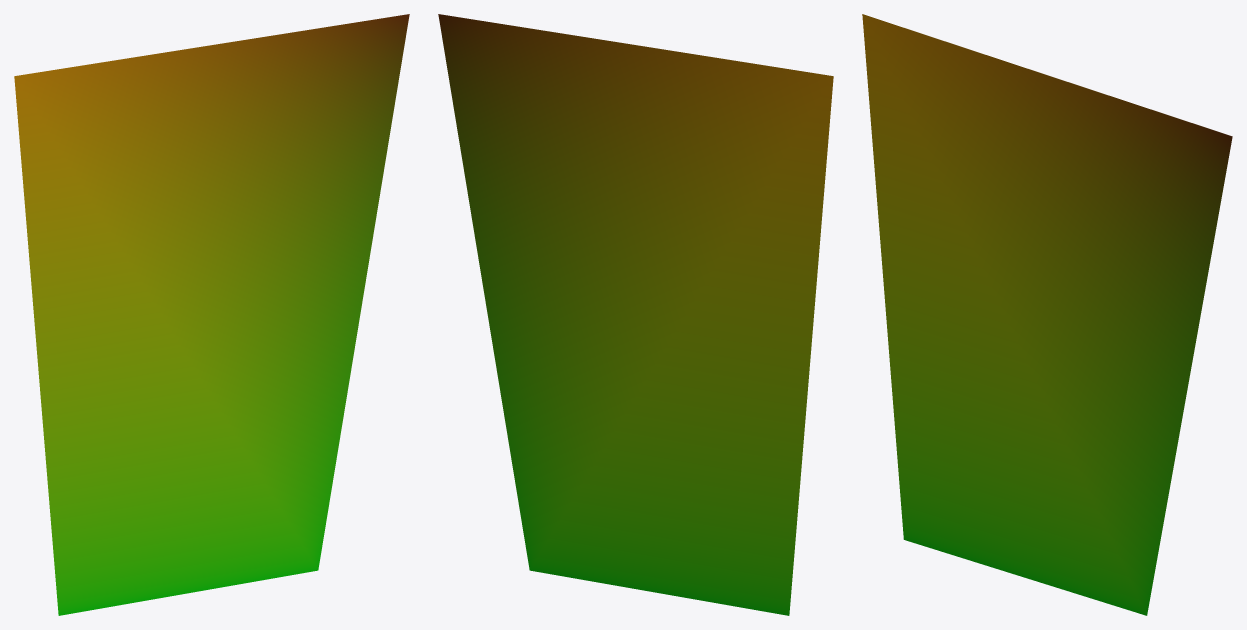
The model's file is Seaweed_LOD3_Var8_sdpjN.fbx.
The picture shows the model from 3 angles, left to right: view 1: azimuth 30°, elevation 25°; view 2: azimuth 150°, elevation 25°; view 3: azimuth 330°, elevation 25°; orthographic projection. The views are drawn at different scales.
Parts seen in each view (by area): view 1: _8add_Var8_LOD3; view 2: _8add_Var8_LOD3; view 3: _8add_Var8_LOD3.
Boxes of the visible parts, x1,y1,x2,y2 form: _8add_Var8_LOD3: (14,14,409,615); _8add_Var8_LOD3: (438,14,833,615); _8add_Var8_LOD3: (862,14,1232,615).
Size of the model in its own units: 13.7 by 18.82 by 0.
